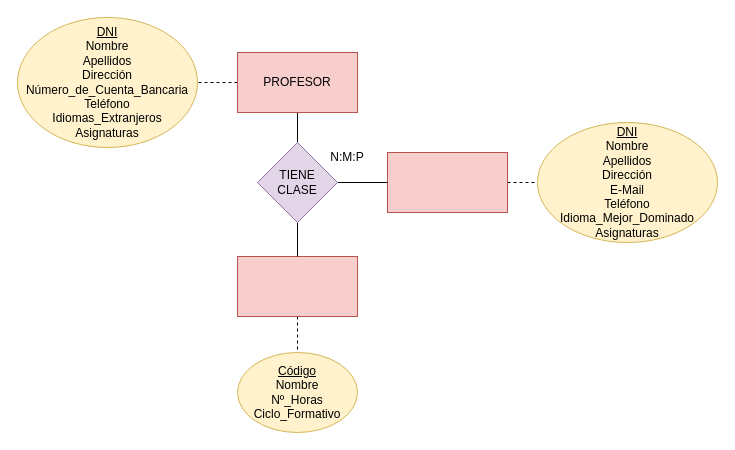
The diagram is 735 pixels wide and 450 high, and some of its shapes have lost their labels. The shapes that lost their labels are listed below. From the top down, each one's centre as x and y in pixels, then its label:
At (447,182): "ALUMNO".
At (297,286): "ASIGNATURA".
